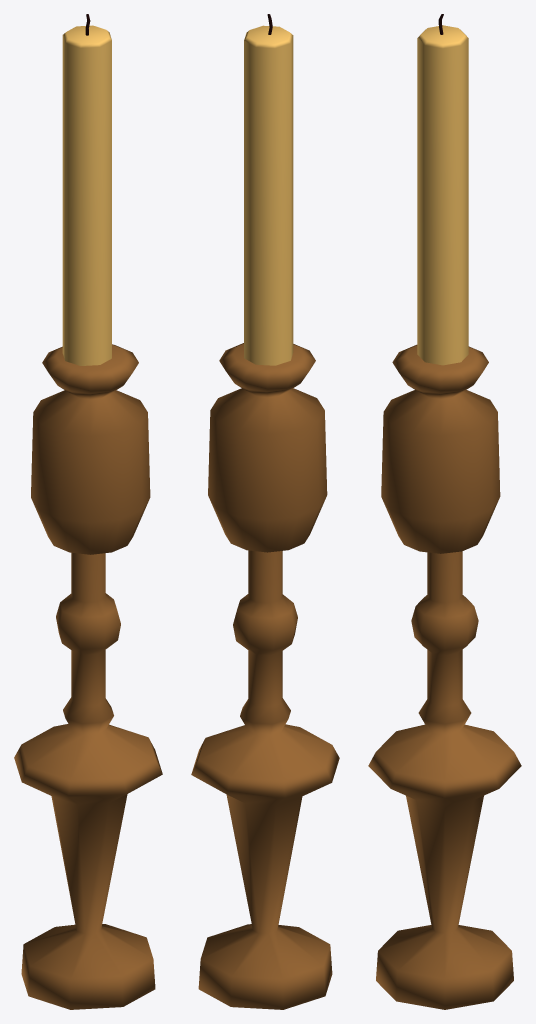
Rendered from SM_Bougie_DecoB.fbx.
3 renders of one model, left to right at view 1: azimuth 30°, elevation 25°; view 2: azimuth 150°, elevation 25°; view 3: azimuth 270°, elevation 25°, orthographic.
Parts seen in each view (by area): view 1: pCylinder39; view 2: pCylinder39; view 3: pCylinder39.
Boxes of the visible parts, <box> form: pCylinder39: <box>14,14,162,1009</box>; pCylinder39: <box>191,14,339,1009</box>; pCylinder39: <box>368,14,521,1009</box>.
Bounding box in the file's own units: 7.45 × 51.68 × 7.45.
